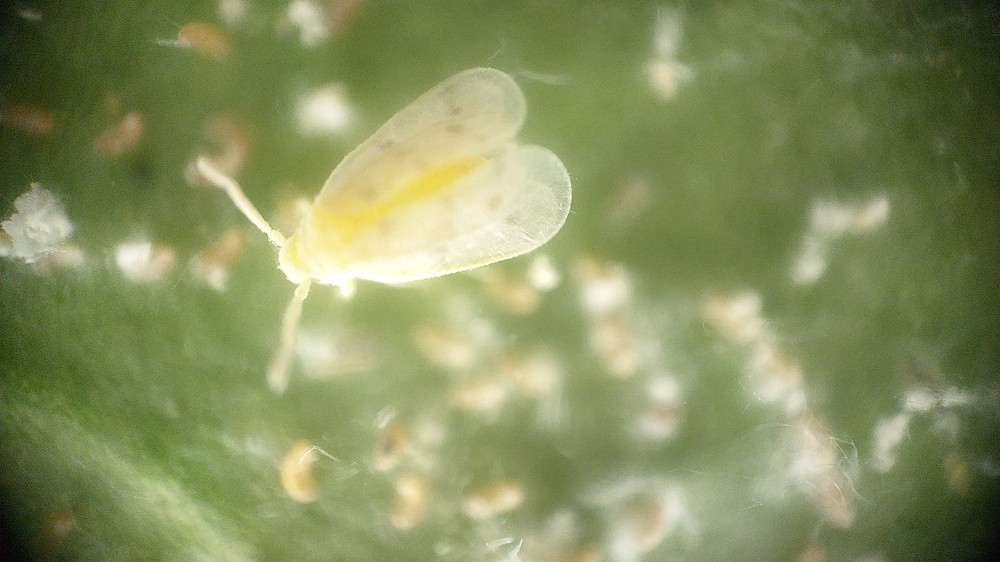Mosca Blanca: (181, 62, 600, 403)
